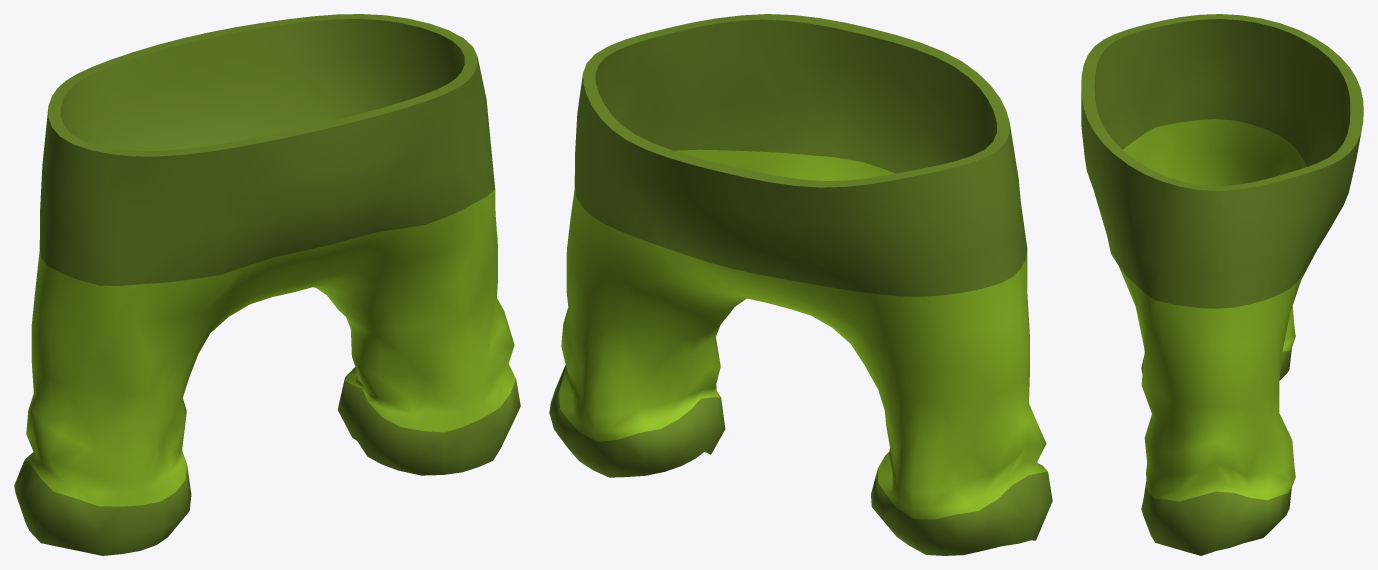
Rendered from 1运动长裤.fbx.
The picture shows the model from 3 angles, left to right: view 1: azimuth 30°, elevation 25°; view 2: azimuth 150°, elevation 25°; view 3: azimuth 270°, elevation 25°; orthographic projection. The views are drawn at different scales.
Visible parts, largest first — view 1: 1运动长裤; view 2: 1运动长裤; view 3: 1运动长裤.
Part boxes in pixels (box(x1,y1,x2,y2)): 1运动长裤: box(14, 14, 520, 555); 1运动长裤: box(549, 14, 1052, 555); 1运动长裤: box(1081, 14, 1363, 555).
Bounding box in the file's own units: 0.6732 × 0.5446 × 0.3751.
